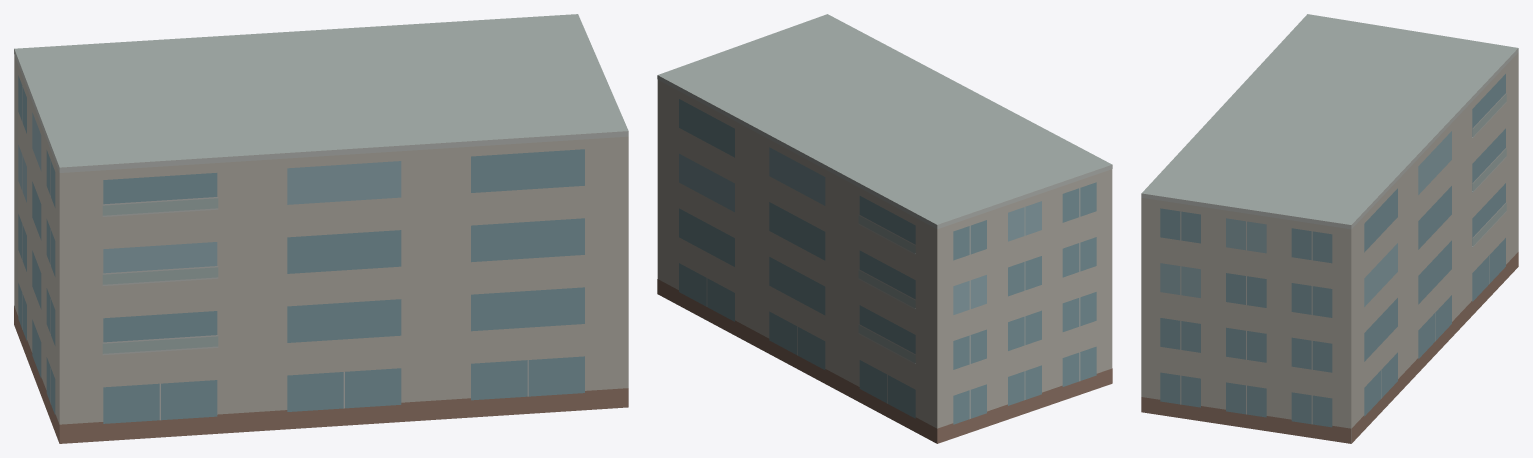
Rendered from survey-upis-32839674.glb.
The picture shows the model from 3 angles, left to right: view 1: azimuth 30°, elevation 25°; view 2: azimuth 150°, elevation 25°; view 3: azimuth 270°, elevation 25°; orthographic projection. The views are drawn at different scales.
Visible parts, largest first — view 1: survey-upis-32839674.tmp; view 2: survey-upis-32839674.tmp; view 3: survey-upis-32839674.tmp.
Boxes of the visible parts, <box> form: survey-upis-32839674.tmp: <box>14,14,628,443</box>; survey-upis-32839674.tmp: <box>657,14,1112,443</box>; survey-upis-32839674.tmp: <box>1141,14,1518,443</box>.
Size of the model in its own units: 25.25 by 12.2 by 19.06.
